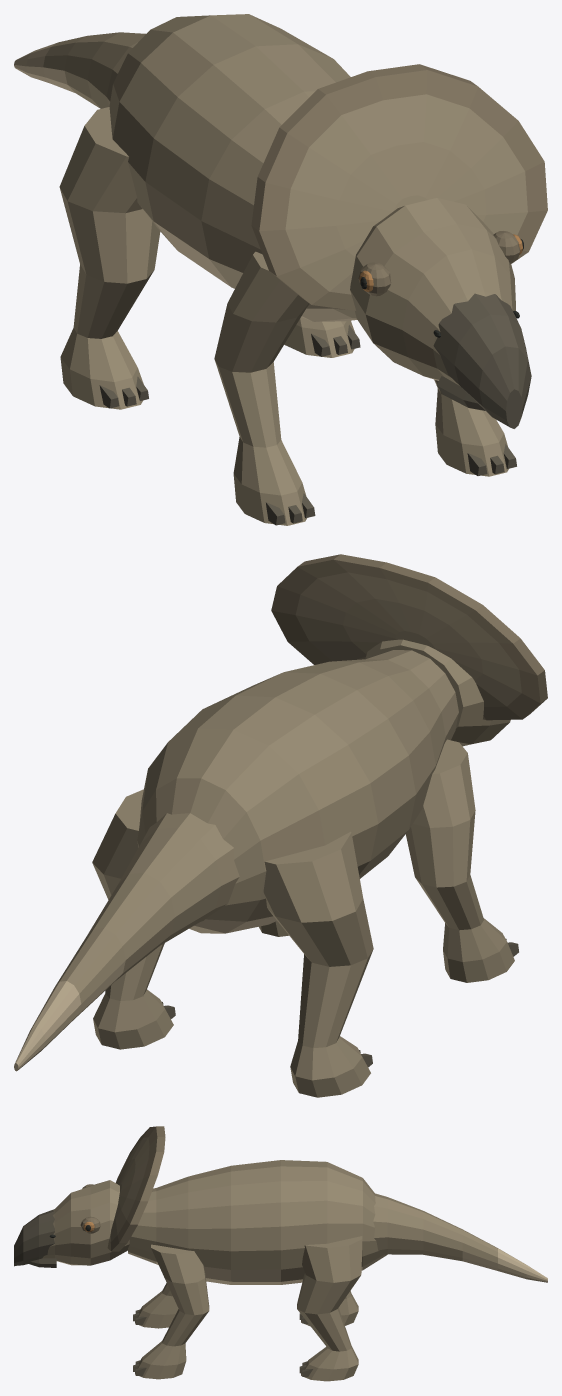
3 renders of one model, top to bottom at view 1: azimuth 30°, elevation 25°; view 2: azimuth 150°, elevation 25°; view 3: azimuth 270°, elevation 25°, orthographic. The views are drawn at different scales.
Parts seen in each view (by area): view 1: broad-solid-cranial-frill, barrel-torso-and-neck, left-hindlimb-with-foot, deep-hornless-skull, left-forelimb-with-foot, hooked-upper-keratin-beak, long-tapering-tail, right-forelimb-with-foot, twelve-small-keratin-nail-tips, right-hindlimb-with-foot, lower-beak-and-jaw, left-eyelid; view 2: barrel-torso-and-neck, broad-solid-cranial-frill, long-tapering-tail, left-hindlimb-with-foot, left-forelimb-with-foot, right-hindlimb-with-foot, deep-hornless-skull; view 3: barrel-torso-and-neck, right-hindlimb-with-foot, long-tapering-tail, right-forelimb-with-foot, deep-hornless-skull, broad-solid-cranial-frill, hooked-upper-keratin-beak, left-forelimb-with-foot, left-hindlimb-with-foot, twelve-small-keratin-nail-tips.
Part boxes in pixels (<box>): broad-solid-cranial-frill: <box>251,64,547,310</box>; barrel-torso-and-neck: <box>109,14,357,321</box>; left-hindlimb-with-foot: <box>59,107,160,409</box>; deep-hornless-skull: <box>350,198,515,386</box>; left-forelimb-with-foot: <box>214,251,309,525</box>; hooked-upper-keratin-beak: <box>433,293,531,428</box>; long-tapering-tail: <box>14,32,145,108</box>; right-forelimb-with-foot: <box>434,379,508,476</box>; twelve-small-keratin-nail-tips: <box>99,325,516,525</box>; right-hindlimb-with-foot: <box>284,317,354,357</box>; lower-beak-and-jaw: <box>436,376,485,410</box>; left-eyelid: <box>358,262,391,296</box>; barrel-torso-and-neck: <box>137,650,458,933</box>; broad-solid-cranial-frill: <box>271,554,547,720</box>; long-tapering-tail: <box>14,813,239,1071</box>; left-hindlimb-with-foot: <box>263,831,373,1097</box>; left-forelimb-with-foot: <box>405,739,514,982</box>; right-hindlimb-with-foot: <box>92,789,173,1049</box>; deep-hornless-skull: <box>365,639,510,746</box>; barrel-torso-and-neck: <box>128,1160,387,1284</box>; right-hindlimb-with-foot: <box>297,1236,362,1381</box>; long-tapering-tail: <box>373,1193,547,1282</box>; right-forelimb-with-foot: <box>135,1244,209,1379</box>; deep-hornless-skull: <box>42,1180,129,1265</box>; broad-solid-cranial-frill: <box>107,1126,165,1251</box>; hooked-upper-keratin-beak: <box>14,1209,54,1266</box>; left-forelimb-with-foot: <box>135,1283,178,1328</box>; left-hindlimb-with-foot: <box>301,1291,358,1326</box>; twelve-small-keratin-nail-tips: <box>133,1309,312,1376</box>.
Size of the model in its own units: 0.478 by 0.65 by 1.5.
